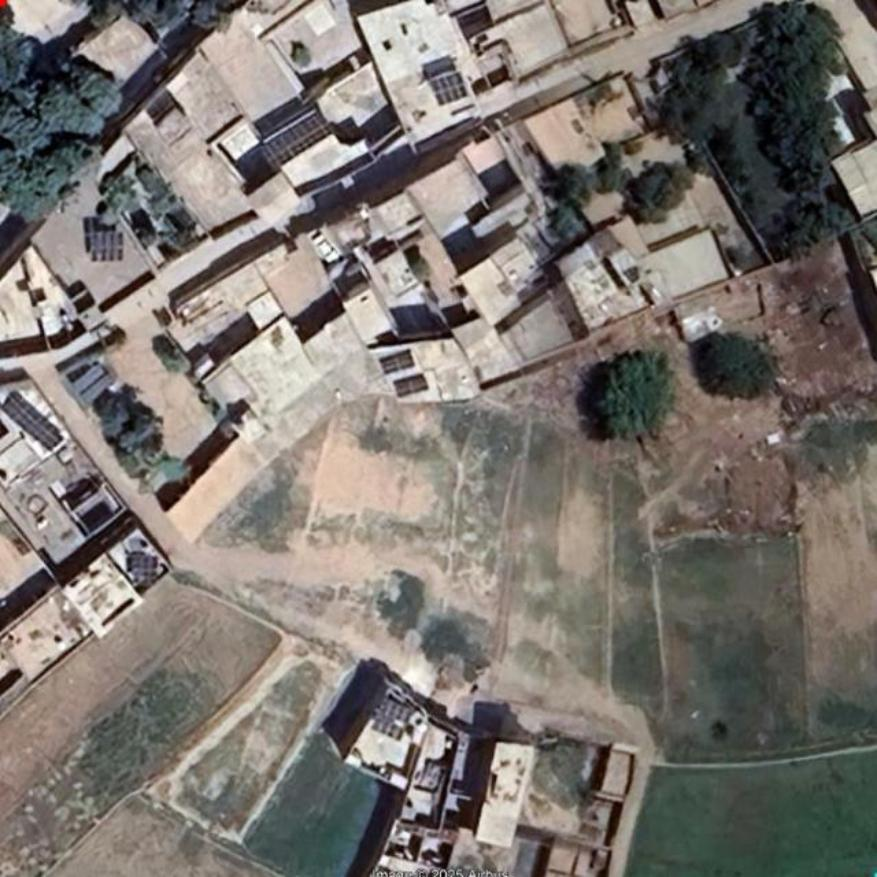Solarpanel: (0, 393, 64, 453), (264, 114, 331, 168), (373, 699, 411, 739), (429, 72, 465, 102), (89, 229, 122, 261), (393, 375, 431, 397), (131, 555, 156, 588), (379, 351, 411, 375)
